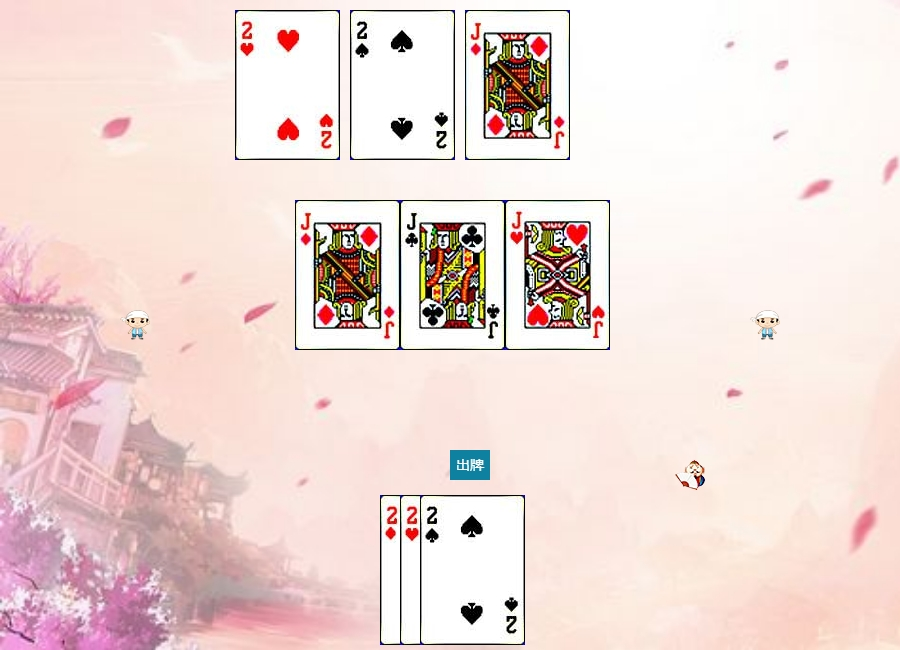11~1: (465, 10, 570, 160), (295, 200, 400, 350)
11~2: (400, 200, 505, 350)
11~3: (505, 200, 610, 350)
15~1: (380, 495, 485, 645)
15~3: (235, 10, 340, 160), (400, 495, 505, 645)
15~4: (350, 10, 455, 160), (420, 495, 525, 645)
